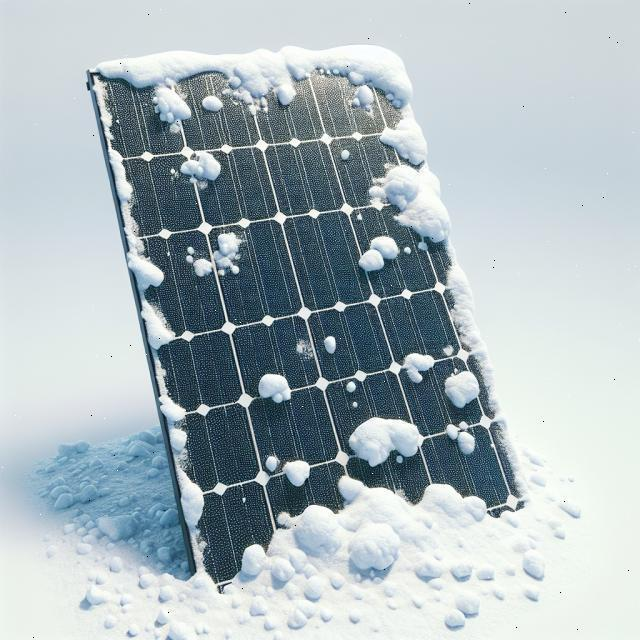Anomaly Solar Panel: (71, 0, 539, 604)
Snow: (67, 0, 535, 605), (92, 74, 176, 352), (341, 409, 424, 470), (156, 137, 227, 208), (178, 228, 247, 283), (347, 225, 405, 285), (432, 360, 488, 415), (435, 410, 484, 459), (248, 362, 295, 412), (259, 450, 315, 490), (394, 343, 438, 389), (197, 91, 226, 113), (318, 330, 340, 358)
